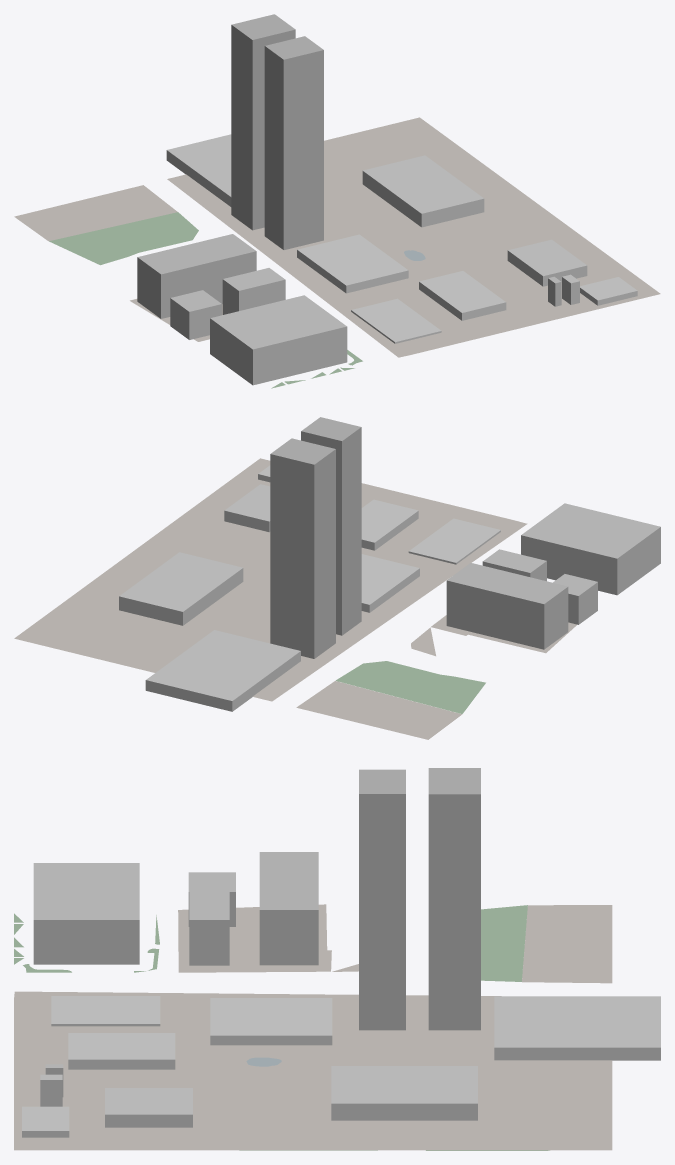
Rendered from 119_84_mid.glb.
The picture shows the model from 3 angles, top to bottom: view 1: azimuth 30°, elevation 25°; view 2: azimuth 150°, elevation 25°; view 3: azimuth 270°, elevation 25°; orthographic projection. The views are drawn at different scales.
Size of the model in its own units: 486 by 218 by 541.
